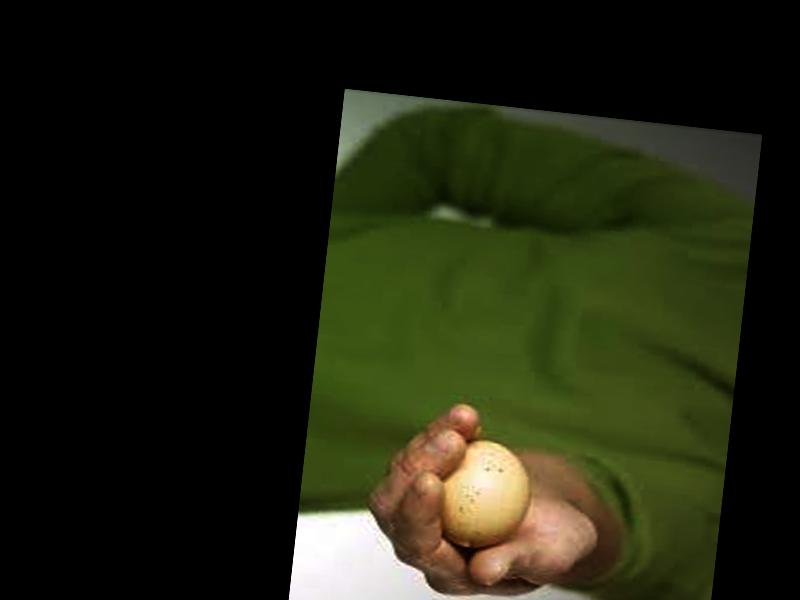Eggs: (435, 435, 534, 552)
